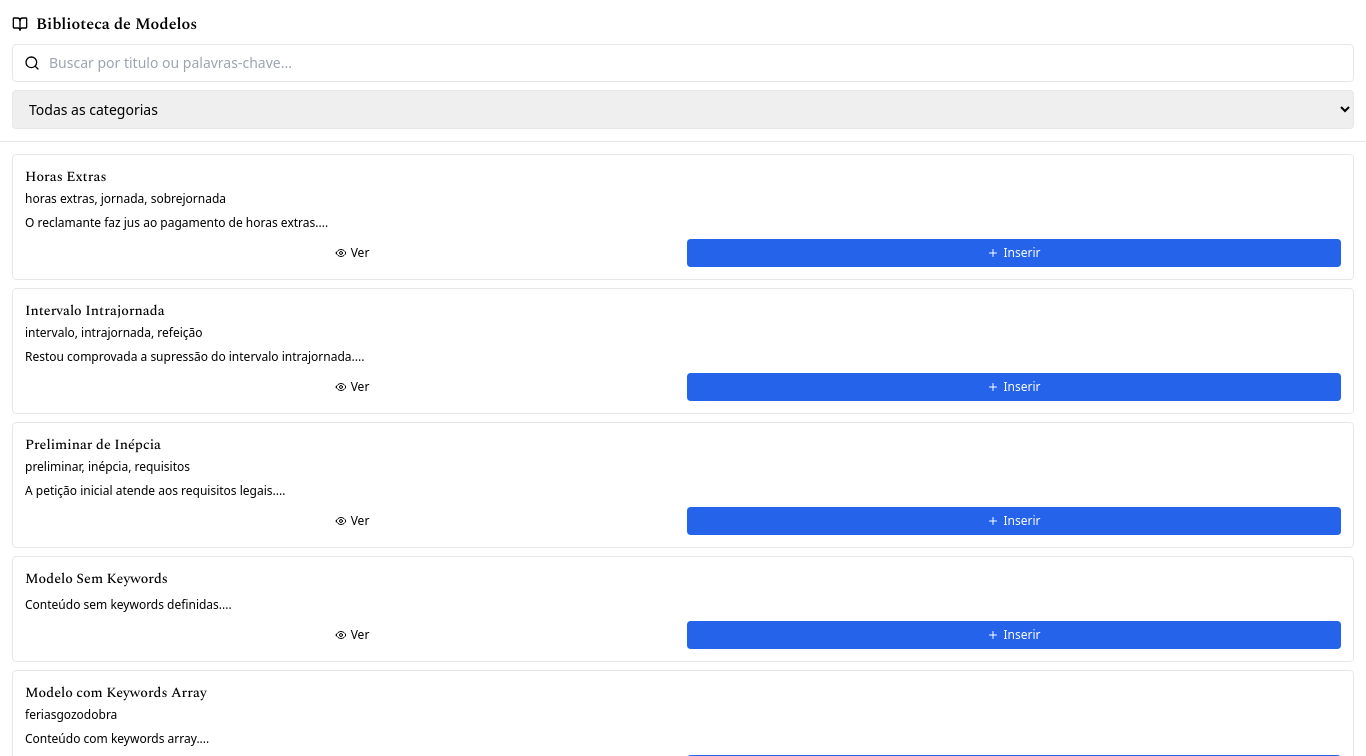
Scenario: ModelSearchPanel › Search › should clear search when clear button clicked
Type "Horas" into the field with placeholder "Buscar por titulo ou palavras-chave...". click: (683, 63)
box: [12, 44, 1354, 82]
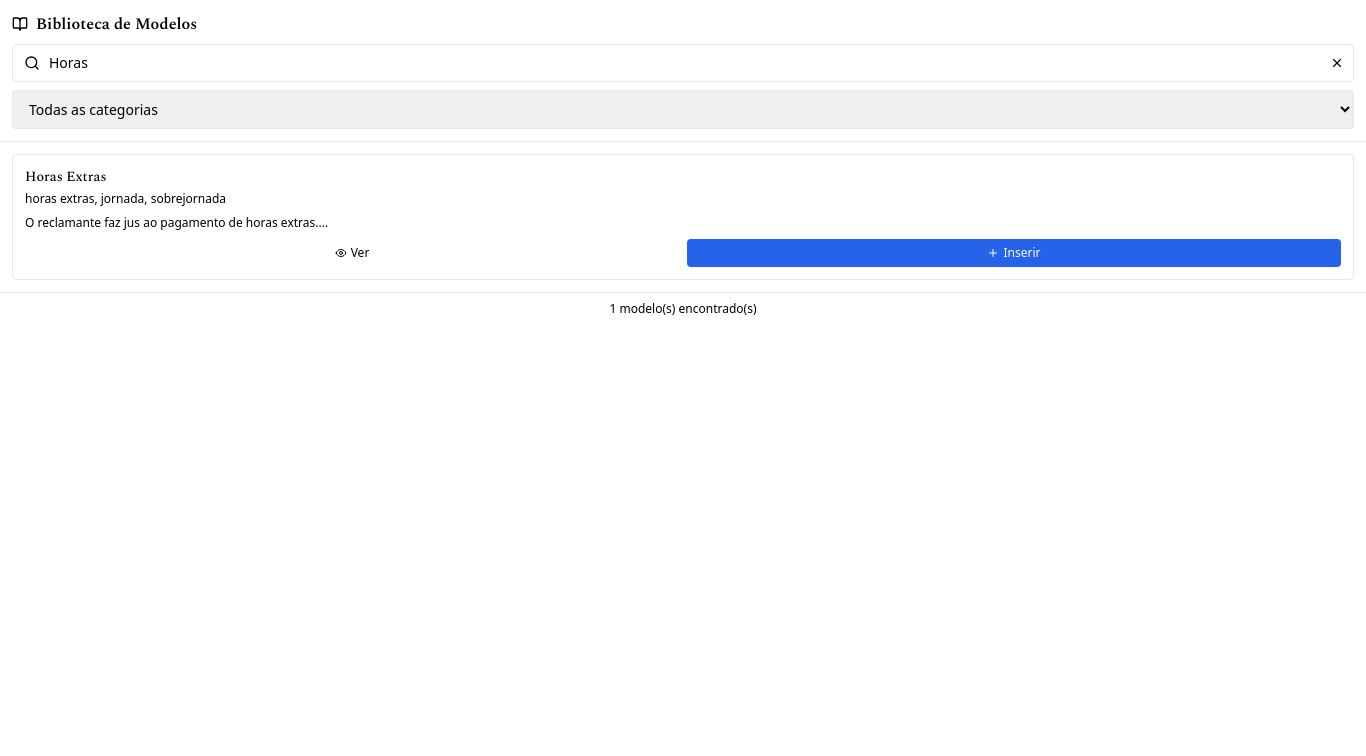
Expected: the heading "Intervalo Intrajornada" is gone
# Click clear
Click the button titled "Limpar (Esc)". click: (1337, 63)
box: [1328, 54, 1346, 72]
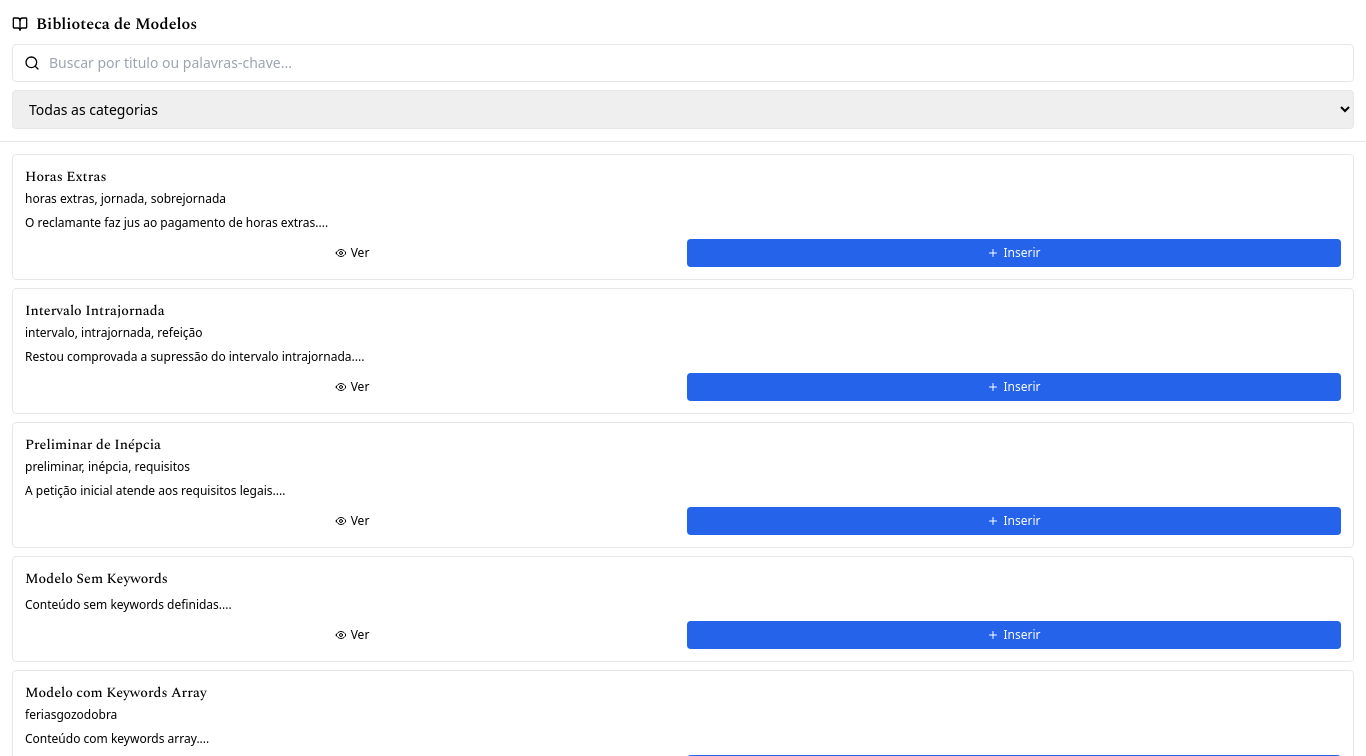
Expected: the heading "Horas Extras" is shown, [25, 166, 107, 187]
Expected: the heading "Intervalo Intrajornada" is shown, [25, 300, 165, 321]
